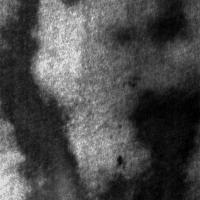patches: (1, 2, 80, 199), (100, 0, 200, 125), (104, 89, 200, 199), (19, 163, 85, 200), (148, 1, 186, 43)
